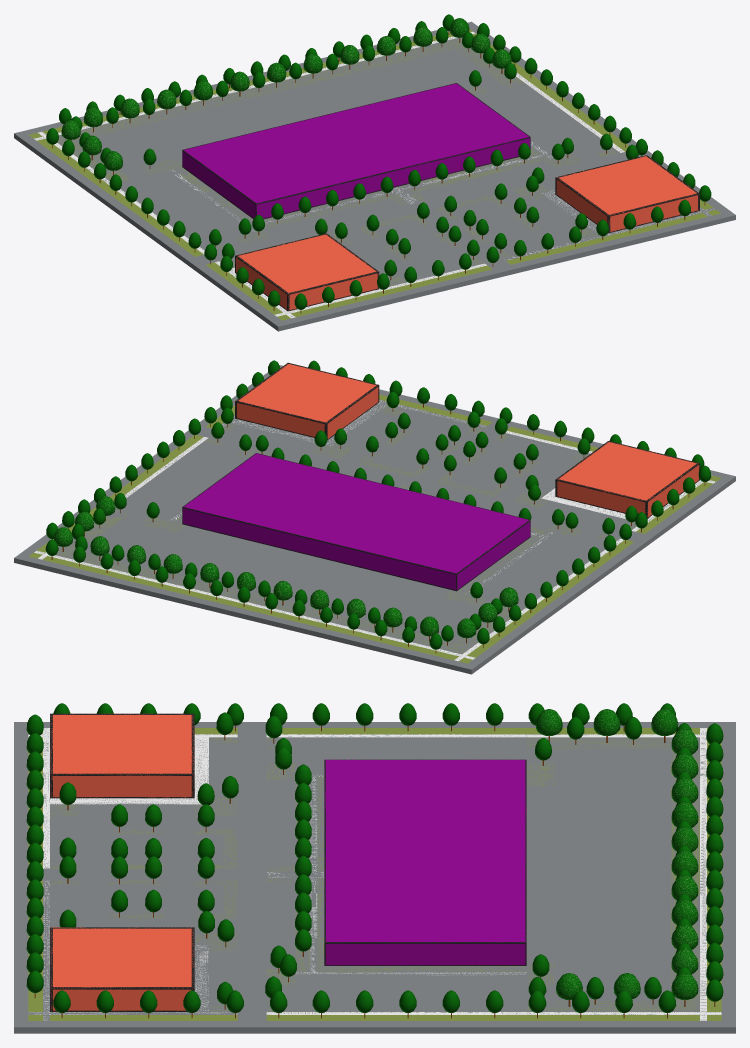
The model's file is 450_warehouse.dae.
The picture shows the model from 3 angles, top to bottom: view 1: azimuth 30°, elevation 25°; view 2: azimuth 150°, elevation 25°; view 3: azimuth 270°, elevation 25°; orthographic projection. The views are drawn at different scales.
Parts seen in each view (by area): view 1: group_1 (×18), group_5 (×4), group_4 (×4), group_3 (×4); view 2: group_1 (×14), group_5 (×4), group_4 (×4), group_3 (×4); view 3: group_1 (×19), group_5 (×3), group_3 (×3), group_4 (×3), Tree_z_Icon_3_1 (×5).
Boxes of the visible parts, x1,y1,x2,y2 form: group_1 (×18): [14, 21, 735, 331]; group_5 (×4): [182, 83, 530, 219]; group_4 (×4): [555, 155, 699, 233]; group_3 (×4): [235, 233, 379, 311]; group_1 (×14): [14, 365, 735, 674]; group_5 (×4): [182, 453, 530, 591]; group_4 (×4): [235, 362, 379, 439]; group_3 (×4): [555, 441, 699, 518]; group_1 (×19): [14, 722, 735, 1033]; group_5 (×3): [324, 759, 526, 965]; group_3 (×3): [50, 713, 194, 798]; group_4 (×3): [50, 927, 194, 1011]; Tree_z_Icon_3_1 (×5): [535, 709, 698, 999].
Size of the model in its own units: 97.5 by 97.5 by 5.84.
